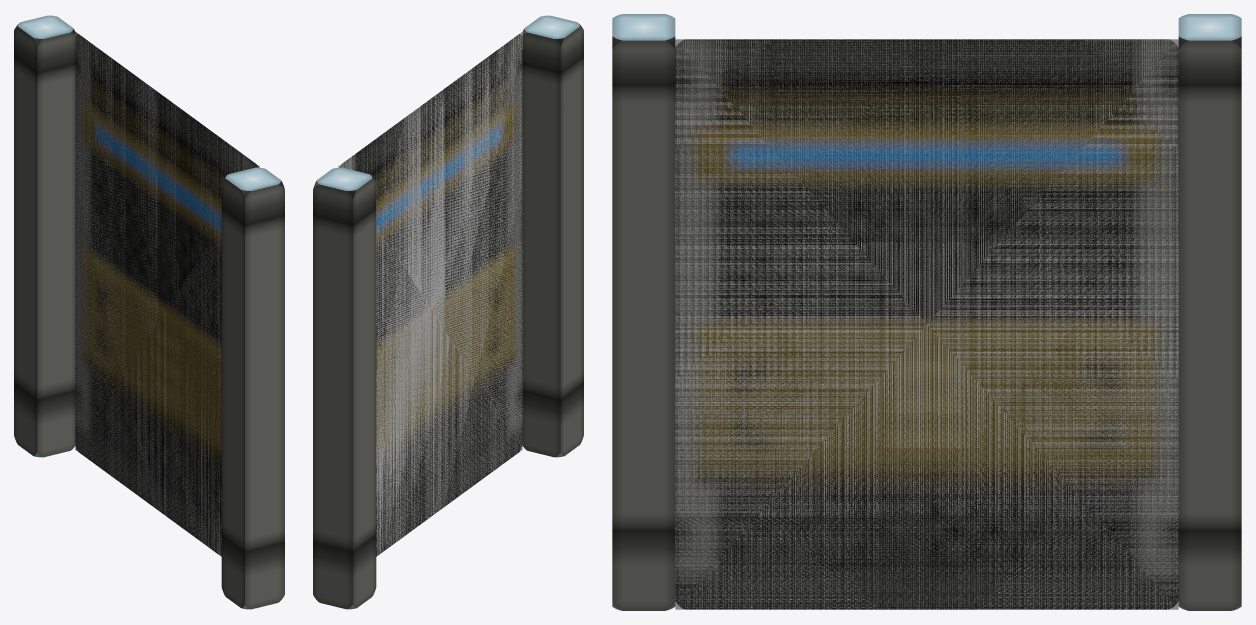
File: NSW.obj
3 renders of one model, left to right at view 1: azimuth 30°, elevation 25°; view 2: azimuth 150°, elevation 25°; view 3: azimuth 270°, elevation 25°, orthographic. The views are drawn at different scales.
Visible parts, largest first — view 1: E, SE, NE; view 2: E, NE, SE; view 3: E, NE, SE.
Part boxes in pixels (box(x1,y1,x2,y2)): E: box(75, 32, 259, 556); SE: box(221, 167, 284, 609); NE: box(14, 15, 75, 457); E: box(338, 32, 522, 556); NE: box(313, 167, 376, 609); SE: box(522, 15, 583, 457); E: box(675, 39, 1178, 609); NE: box(1178, 14, 1241, 610); SE: box(612, 14, 675, 610).
Bounding box in the file's own units: 0.2 × 2 × 2.
2 materials, 1 textured.
